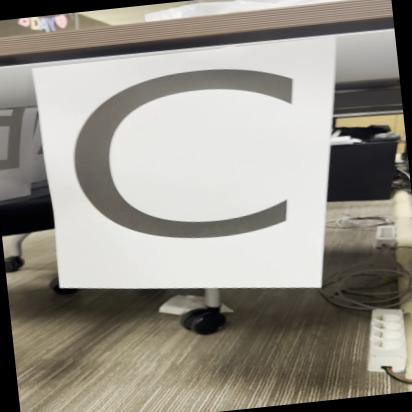seat: (40, 39, 330, 310)
